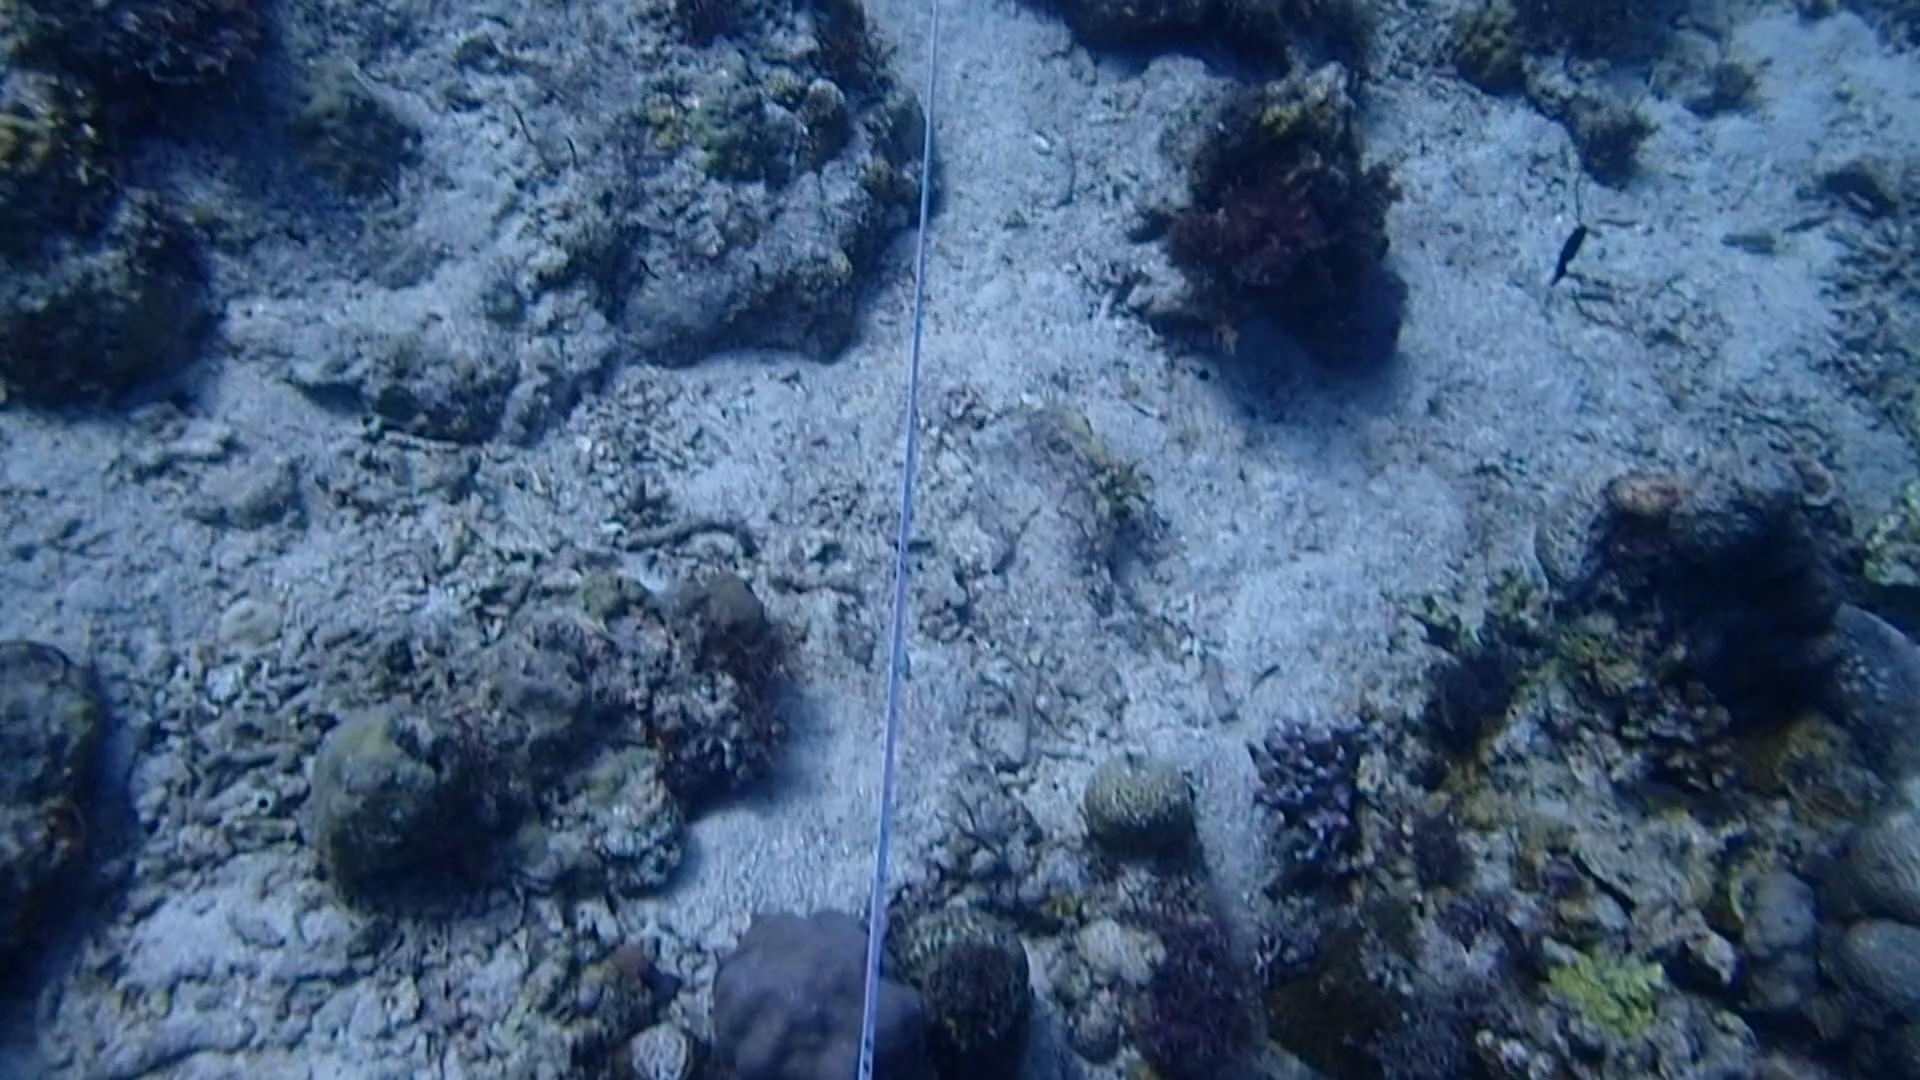Dark Fish: (1531, 210, 1601, 295)
